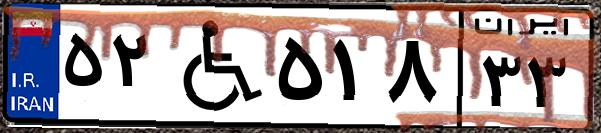1: (330, 28, 385, 110)
2: (110, 28, 158, 98)
3: (475, 38, 525, 113), (525, 38, 570, 115)
5: (270, 28, 330, 110), (57, 26, 110, 100)
8: (385, 28, 445, 110)
ژ (معلولین و جانبازان): (158, 12, 270, 120)
